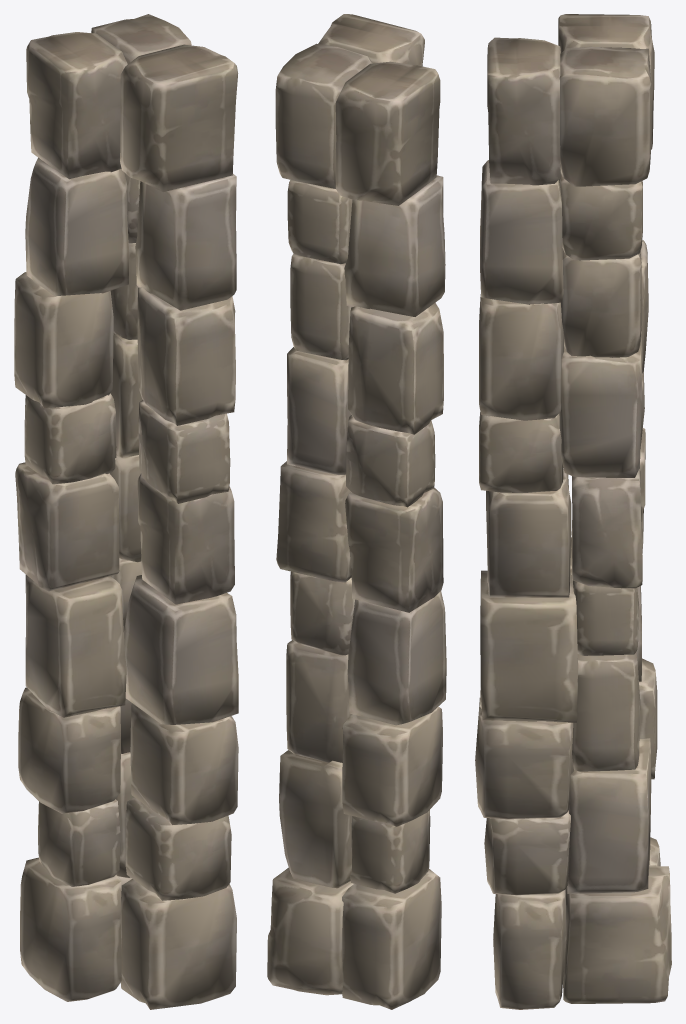
Rendered from corner-exterior-brick.glb.
3 views of the same model, side by side, from view 1: azimuth 30°, elevation 25°; view 2: azimuth 150°, elevation 25°; view 3: azimuth 270°, elevation 25° (orthographic). The views are drawn at different scales.
Parts seen in each view (by area): view 1: Corner_Exterior_Brick; view 2: Corner_Exterior_Brick; view 3: Corner_Exterior_Brick.
Part boxes in pixels (x1=…): Corner_Exterior_Brick: x1=14, y1=14, x2=238, y2=1009; Corner_Exterior_Brick: x1=267, y1=14, x2=446, y2=1009; Corner_Exterior_Brick: x1=475, y1=14, x2=671, y2=1009.
Bounding box in the file's own units: 0.5307 × 3.02 × 0.5758.
Materials: 1 (1 with a texture image).
